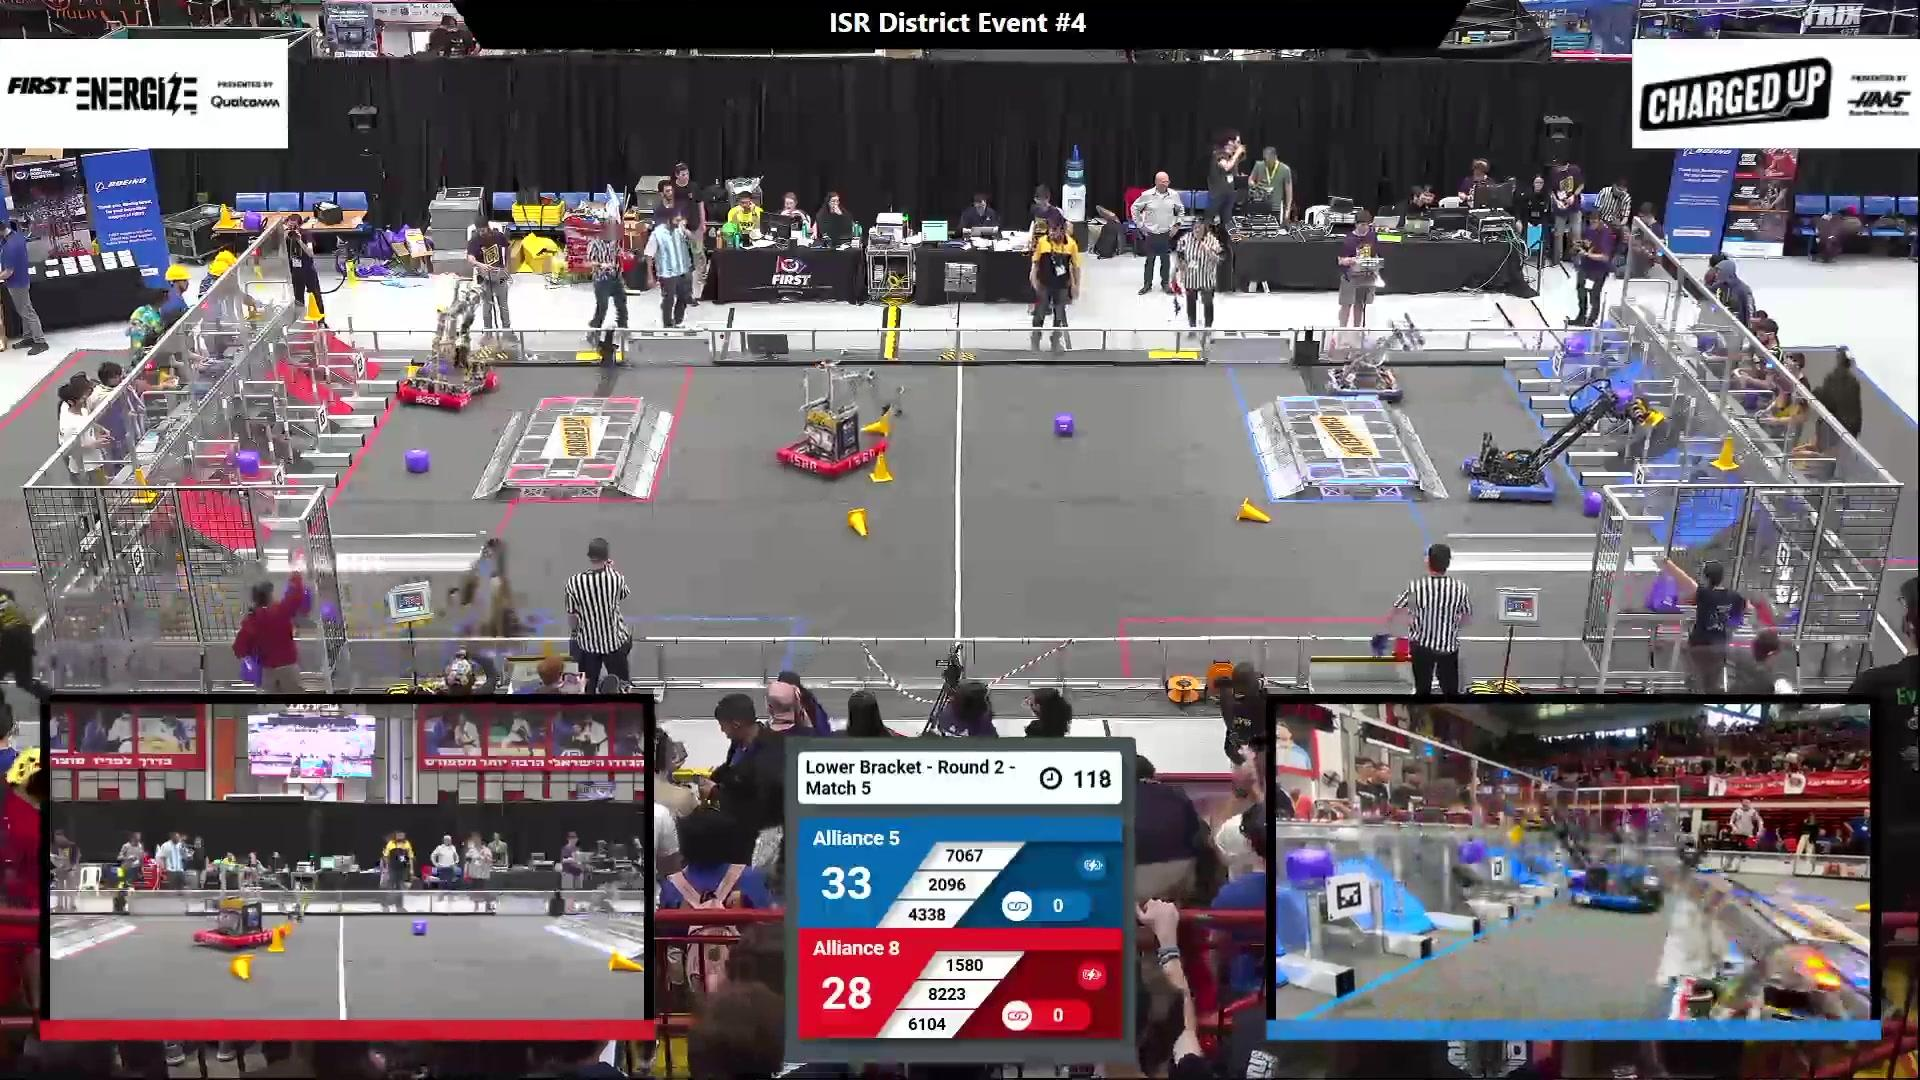robot: (1650, 853, 1870, 1021), (1460, 377, 1654, 501), (1505, 810, 1662, 915), (775, 355, 902, 477), (397, 276, 505, 411), (1652, 558, 1783, 666), (447, 531, 549, 667), (191, 862, 305, 953)
